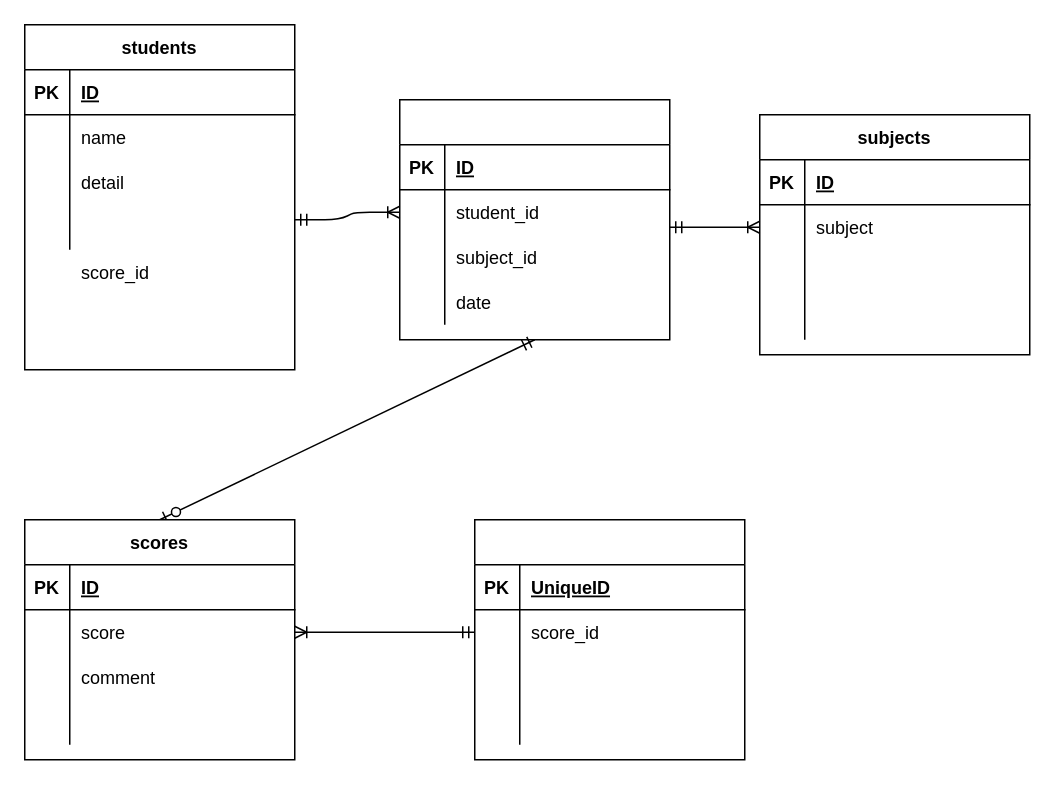
This 1055x785 diagram has some shape labels left out. The box of each missing label's shape, as (x1, y1, x2, y2) in pixels:
submits: (398, 98, 670, 340)
teachers: (473, 518, 745, 760)
